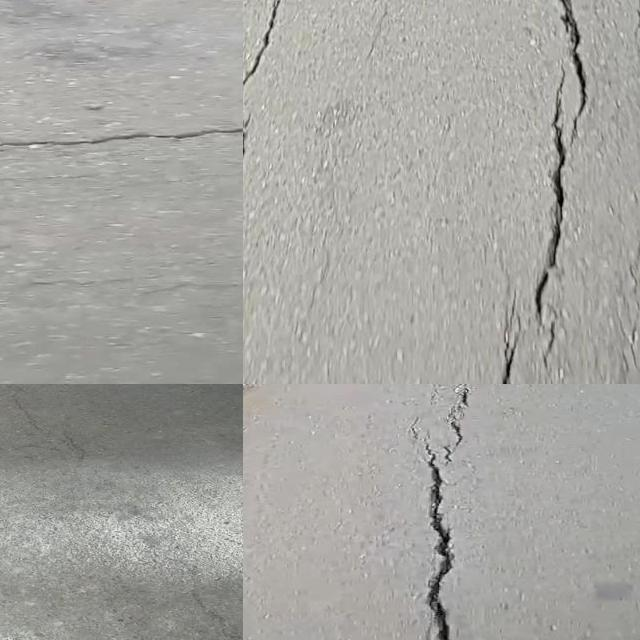Melintang: (0, 116, 243, 180)
Memanjang: (489, 0, 613, 384), (405, 384, 481, 640)
